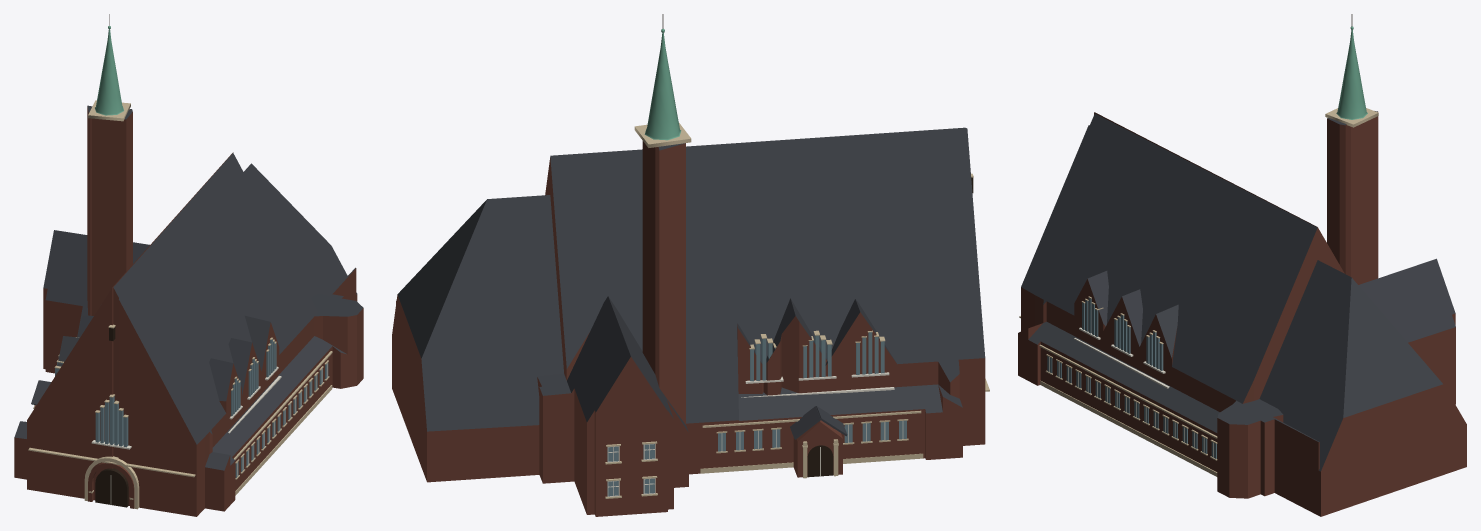
Rendered from vrijburg.glb.
3 renders of one model, left to right at view 1: azimuth 30°, elevation 25°; view 2: azimuth 150°, elevation 25°; view 3: azimuth 270°, elevation 25°, orthographic. The views are drawn at different scales.
Parts seen in each view (by area): view 1: vrijburg; view 2: vrijburg; view 3: vrijburg.
Boxes of the visible parts, x1,y1,x2,y2 form: vrijburg: [14, 14, 363, 516]; vrijburg: [392, 14, 989, 516]; vrijburg: [1018, 14, 1466, 516].
Bounding box in the file's own units: 42.83 × 37.3 × 39.48.
